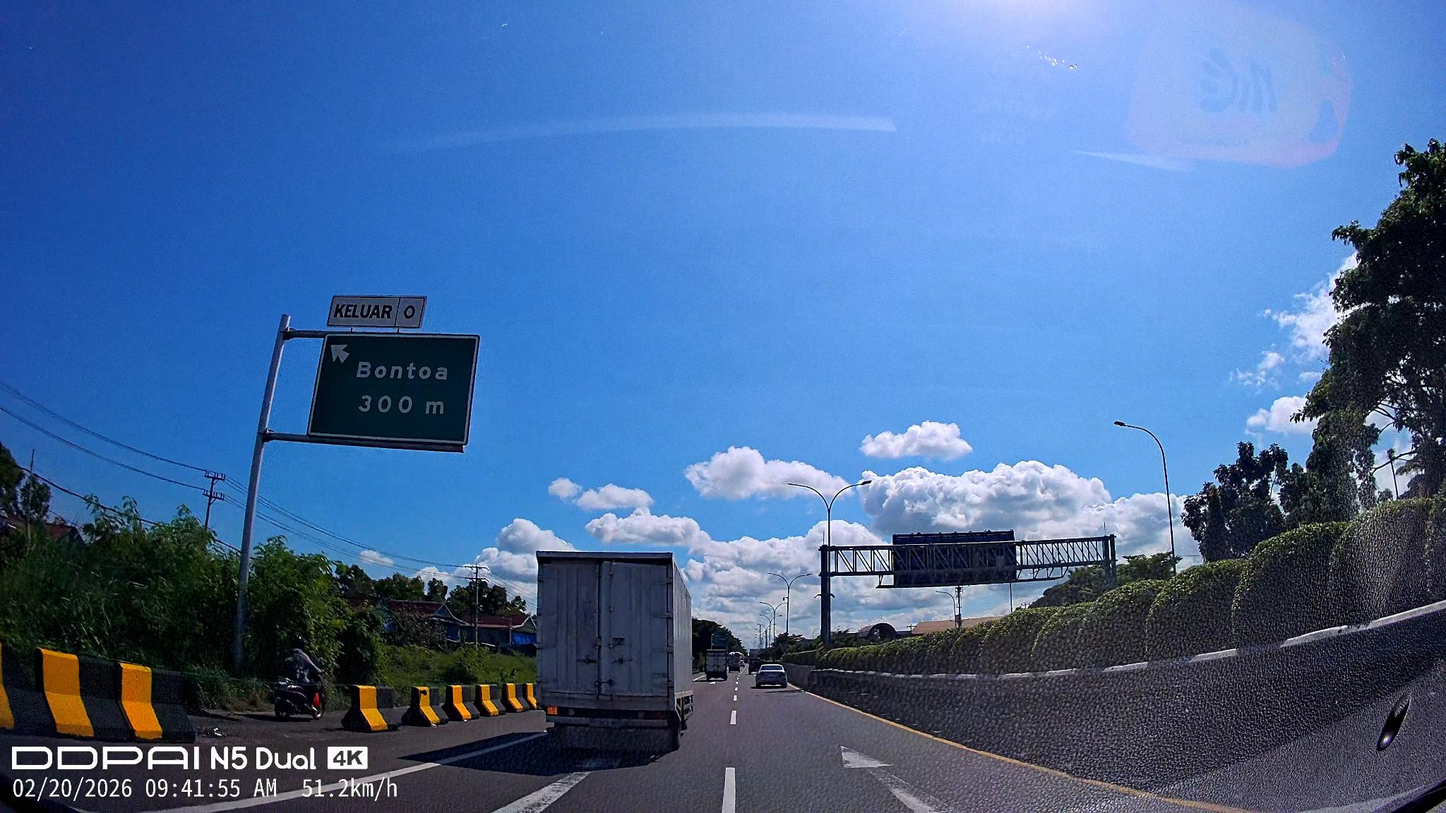rambu_teks: (309, 332, 479, 445)
